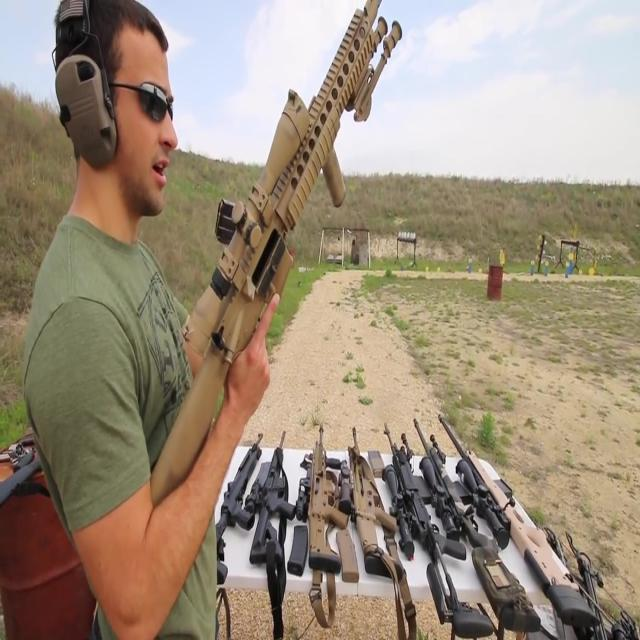Weapon: (113, 0, 434, 522), (197, 418, 640, 640), (0, 392, 74, 534)
